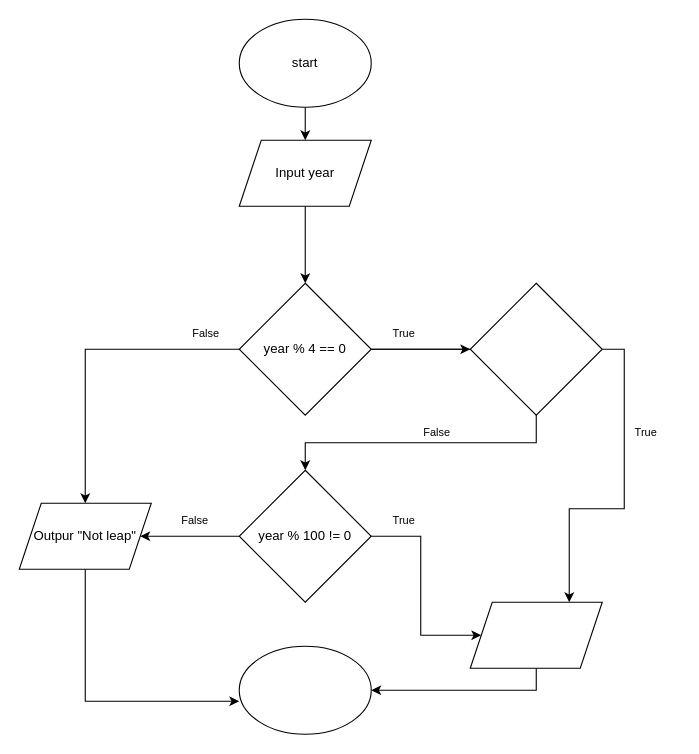
Some shapes in this 699 by 754 pixel diagram are drawn without their labels. Each missing label, with the centre of its shape:
End: pixel 304 689
Outpur "leap": pixel 535 634
year % 400 == 0: pixel 535 348
